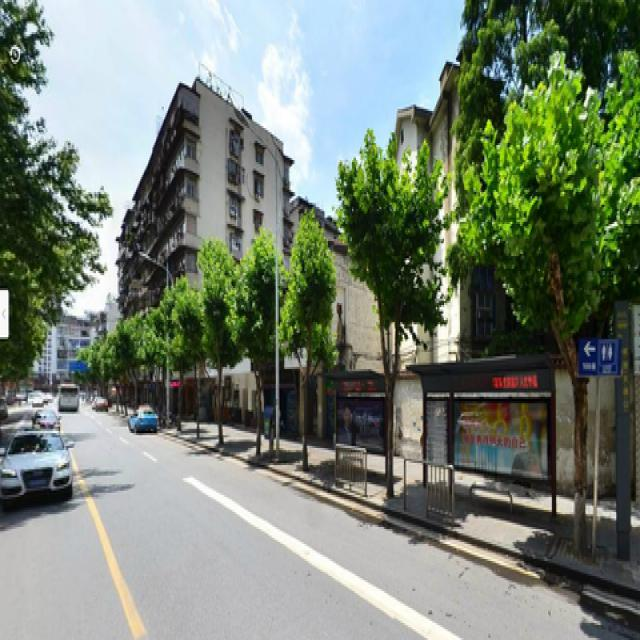meta: (340, 141, 440, 499)
